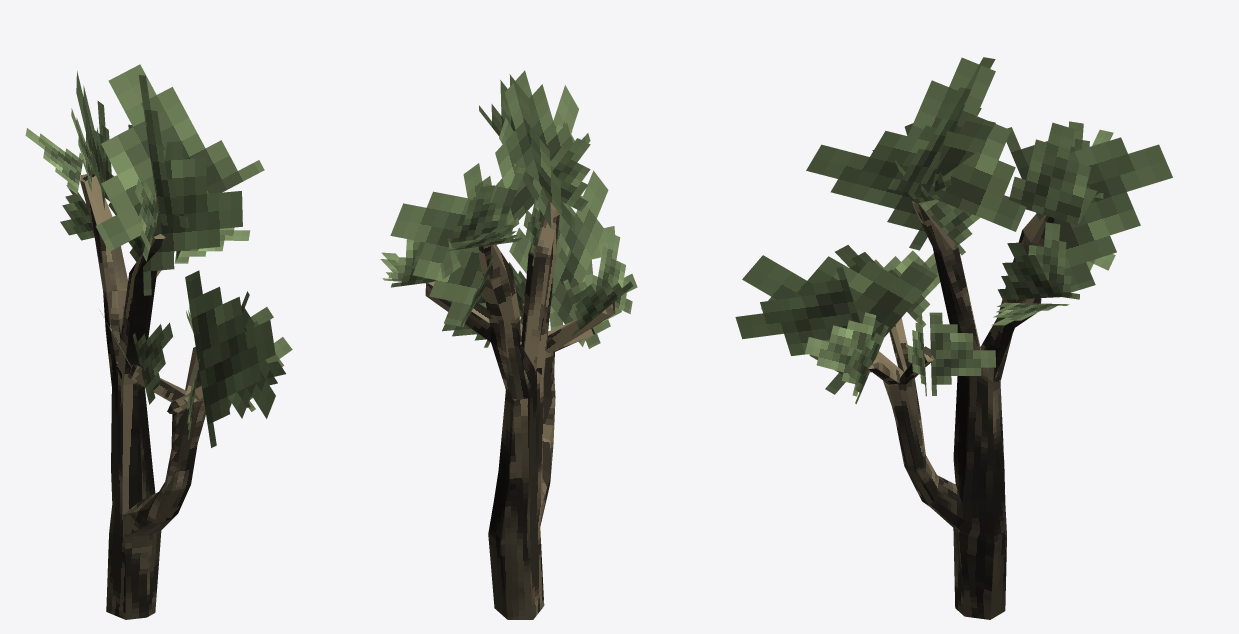
Rendered from Tree.glb.
The picture shows the model from 3 angles, left to right: view 1: azimuth 30°, elevation 25°; view 2: azimuth 150°, elevation 25°; view 3: azimuth 270°, elevation 25°; orthographic projection. The views are drawn at different scales.
Visible parts, largest first — view 1: Cylinder; view 2: Cylinder; view 3: Cylinder.
Boxes of the visible parts, x1=… form: Cylinder: x1=25, y1=64, x2=292, y2=619; Cylinder: x1=380, y1=70, x2=637, y2=619; Cylinder: x1=735, y1=57, x2=1172, y2=619.
Bounding box in the file's own units: 8.32 × 20.26 × 16.41.
1 material, 1 textured.
